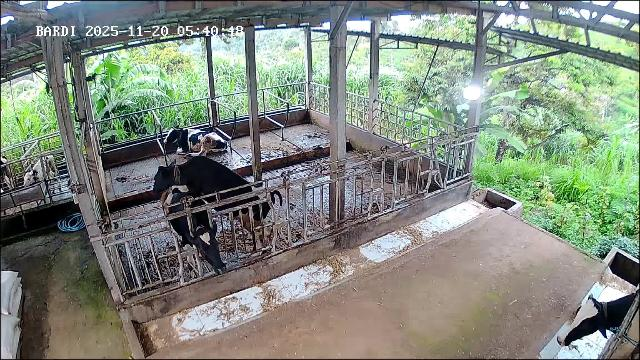mounting: (151, 153, 279, 252)
